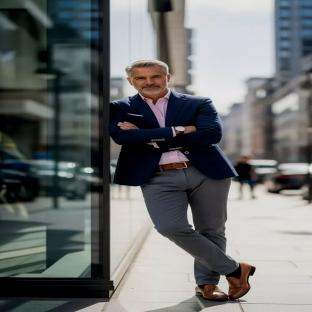Human: (110, 60, 255, 300)
